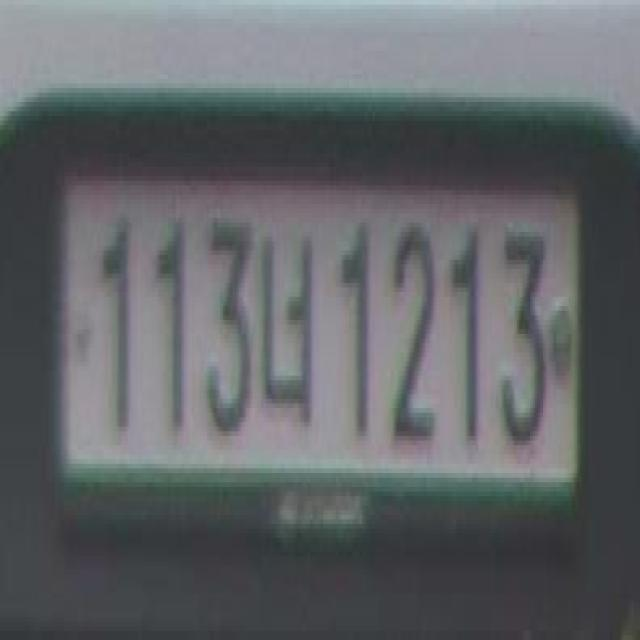illegal_plate: (42, 152, 590, 566)
